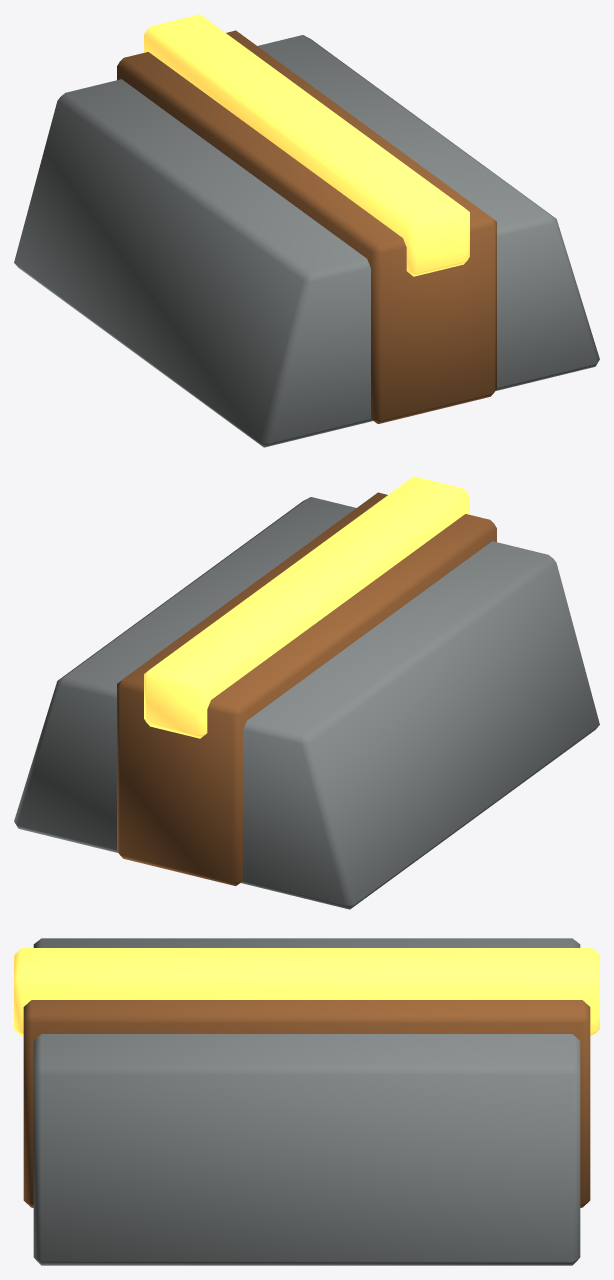
File: prop_scrap_ingot.glb
The picture shows the model from 3 angles, top to bottom: view 1: azimuth 30°, elevation 25°; view 2: azimuth 150°, elevation 25°; view 3: azimuth 270°, elevation 25°; orthographic projection. The views are drawn at different scales.
Visible parts, largest first — view 1: prop_scrap_ingot_mesh; view 2: prop_scrap_ingot_mesh; view 3: prop_scrap_ingot_mesh.
Boxes of the visible parts, left/top/right/bottom form: prop_scrap_ingot_mesh: left=14, top=14, right=599, bottom=447; prop_scrap_ingot_mesh: left=14, top=476, right=599, bottom=909; prop_scrap_ingot_mesh: left=14, top=938, right=599, bottom=1265.
Bounding box in the file's own units: 0.4354 × 0.245 × 0.6.
